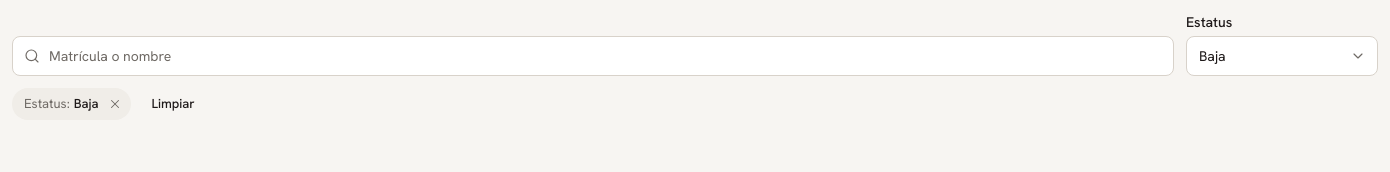
Test: BarraFiltros · filtros, chips y Limpiar › un filtro activo aparece como chip con su botón para quitarlo
Check: the list named "Filtros activos" shows "Estatus:", box left=12, top=88, right=130, bottom=120
Check: the list named "Filtros activos" shows "Baja", box left=74, top=95, right=99, bottom=112
Step 1. Click the button named "Quitar filtro Estatus: Baja" → (114, 104), box left=102, top=92, right=126, bottom=116
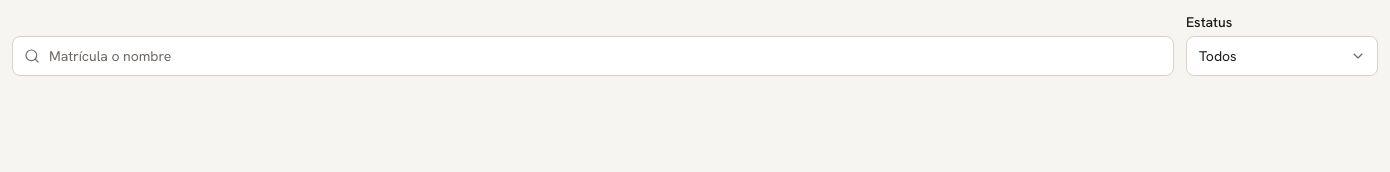
Check: the dropdown labelled "Estatus" shows "Todos", box left=1186, top=36, right=1378, bottom=76
